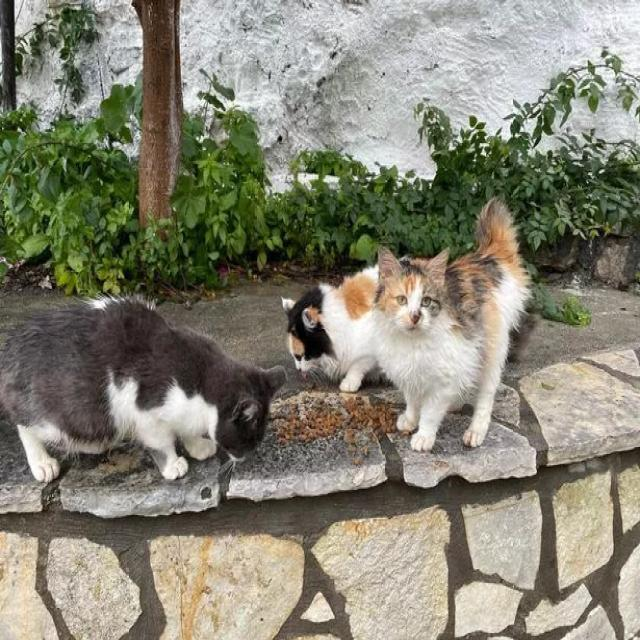cat: (0, 297, 285, 482), (374, 200, 529, 452), (282, 267, 379, 392)
